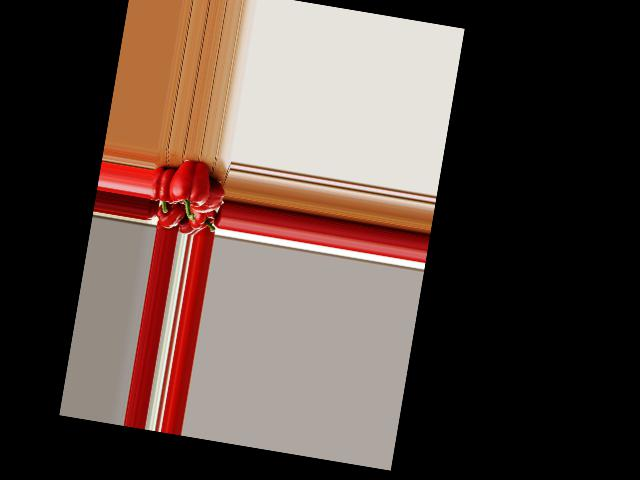bell_pepper: (187, 204, 220, 233)
